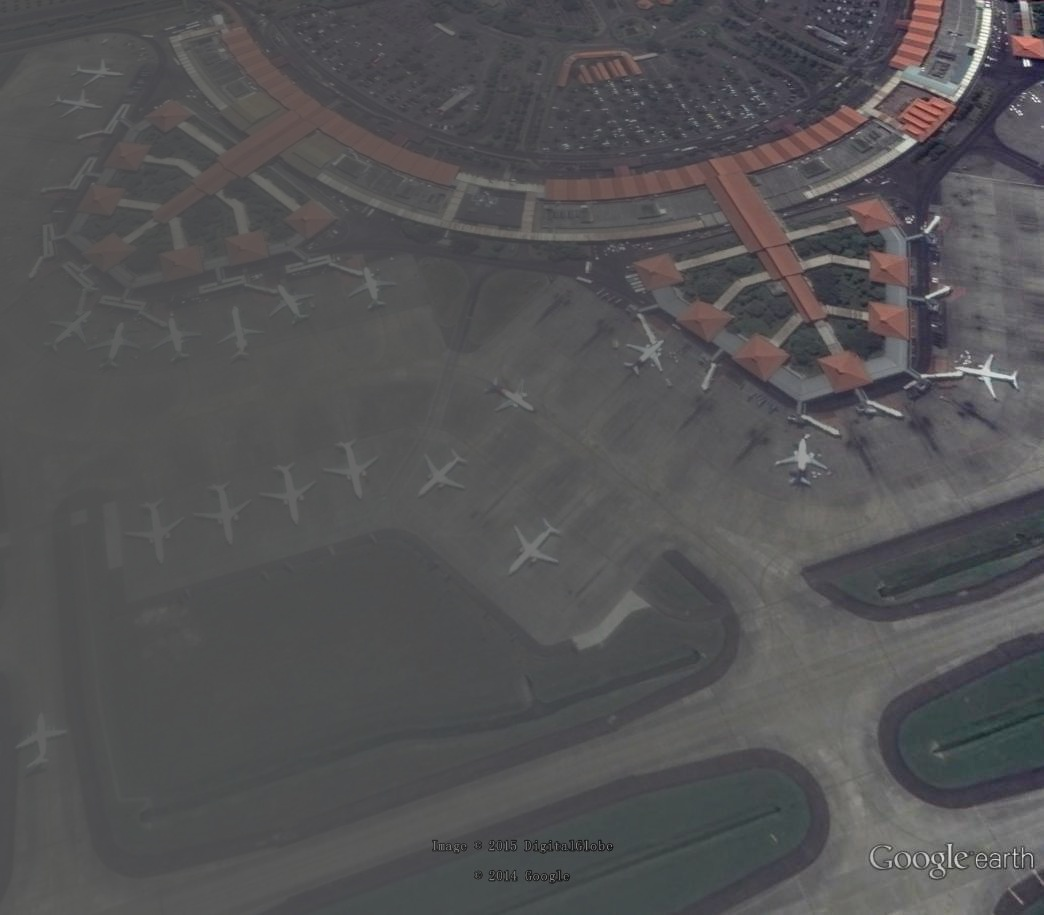aircraft: (121, 497, 188, 569), (257, 460, 322, 528), (191, 479, 255, 548), (322, 436, 383, 502), (11, 709, 71, 774), (507, 513, 565, 578), (955, 353, 1023, 403), (773, 436, 830, 491), (146, 315, 205, 366), (86, 321, 144, 372), (414, 449, 470, 501), (345, 264, 400, 314), (217, 304, 266, 360), (42, 308, 95, 355), (481, 373, 537, 417), (266, 282, 315, 328), (49, 85, 104, 121), (621, 339, 668, 380), (67, 57, 126, 89)
